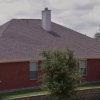Chimney: (37, 3, 61, 39)
